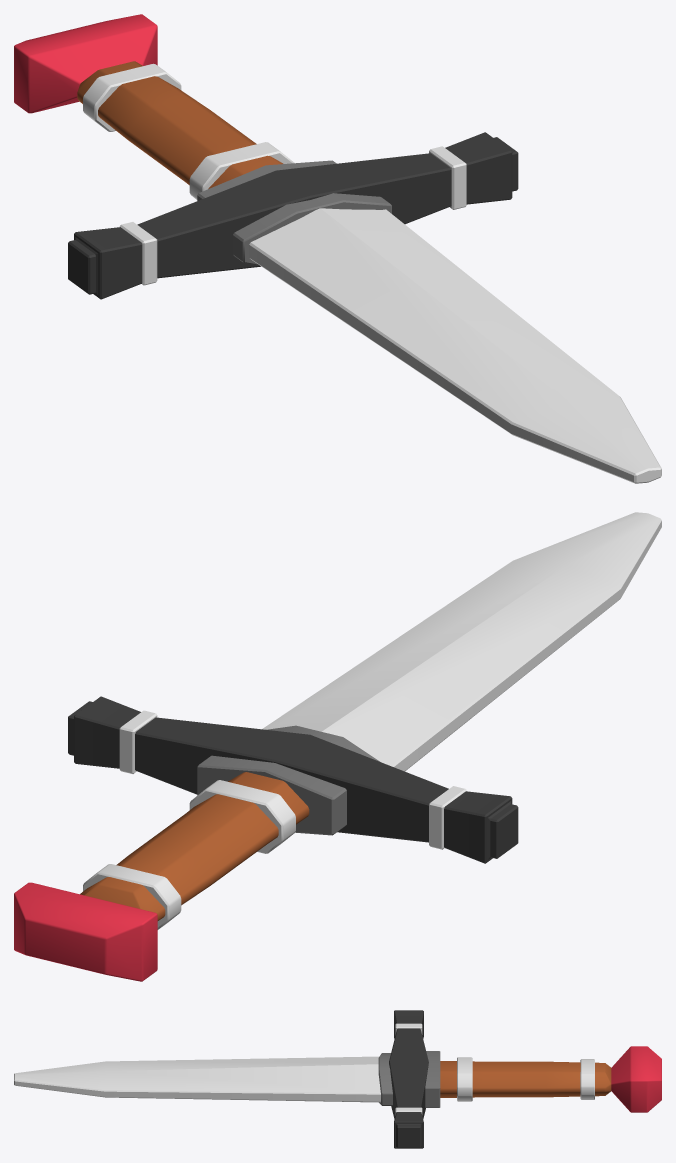
File: Sword.fbx
3 renders of one model, top to bottom at view 1: azimuth 30°, elevation 25°; view 2: azimuth 150°, elevation 25°; view 3: azimuth 270°, elevation 25°, orthographic. The views are drawn at different scales.
Visible parts, largest first — view 1: Blade.001, Middle.001, Handle.001, Ruby.001, Rings.004, Rings.002, Rings.003; view 2: Blade.001, Middle.001, Handle.001, Ruby.001, Rings.004, Rings.002, Rings.003; view 3: Blade.001, Handle.001, Middle.001, Ruby.001, Rings.004, Rings.002, Rings.003.
Part boxes in pixels (x1,y1,x2,y2): Blade.001: (249,208,661,483); Middle.001: (68,132,518,299); Handle.001: (77,61,283,188); Ruby.001: (14,14,157,113); Rings.004: (197,160,391,265); Rings.002: (83,63,294,199); Rings.003: (119,146,466,285); Blade.001: (262,512,661,771); Middle.001: (68,696,518,863); Handle.001: (80,772,309,920); Ruby.001: (14,882,157,981); Rings.004: (197,725,379,835); Rings.002: (83,780,295,929); Rings.003: (119,710,466,849); Blade.001: (14,1056,380,1102); Handle.001: (440,1061,611,1097); Middle.001: (389,1010,428,1148); Ruby.001: (611,1046,661,1112); Rings.004: (378,1051,440,1107); Rings.002: (457,1057,594,1101); Rings.003: (395,1023,422,1115).
Bounding box in the file's own units: 582 × 84.58 × 1367.
